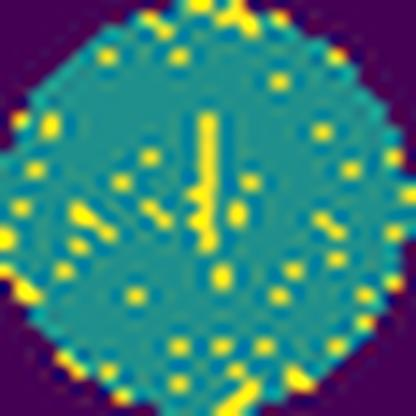Scratch: (170, 98, 242, 278)
